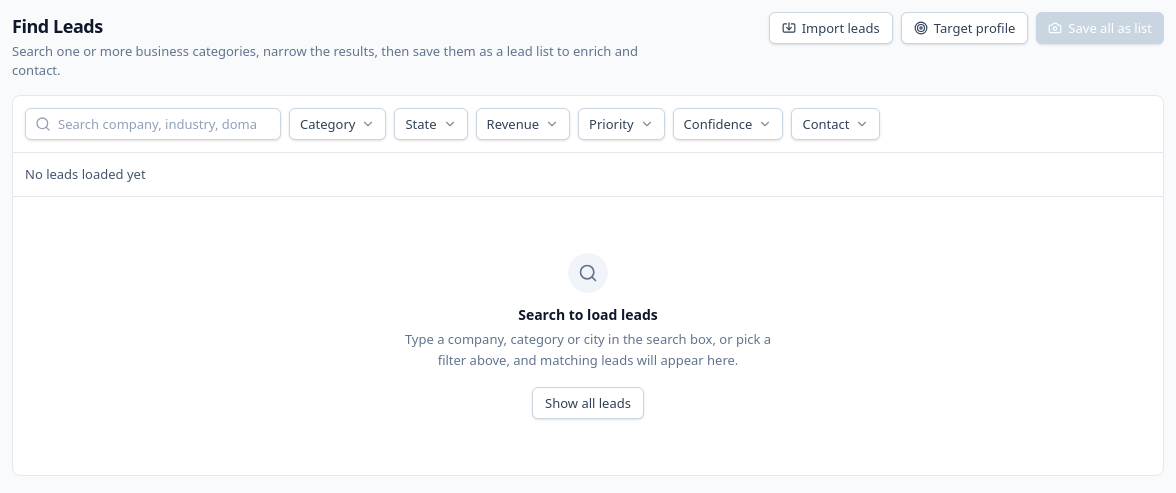
Test: FindLeadsPage › loads matching leads once the user types a search
The image size is (1176, 493).
In the search field named "Search leads": (153, 124) [25,108,281,140], type "alpha"
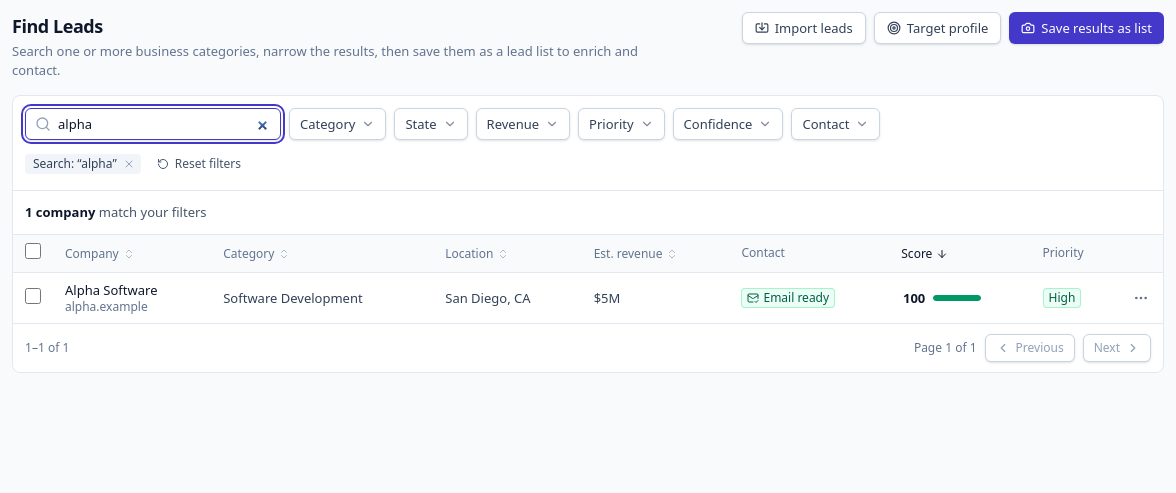
Check: the button "Alpha Software" is shown, box [65,281,158,299]
Check: the heading "Search to load leads" is gone
